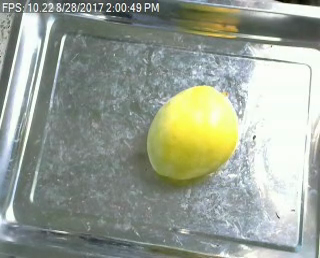Mango: (143, 85, 238, 179)
